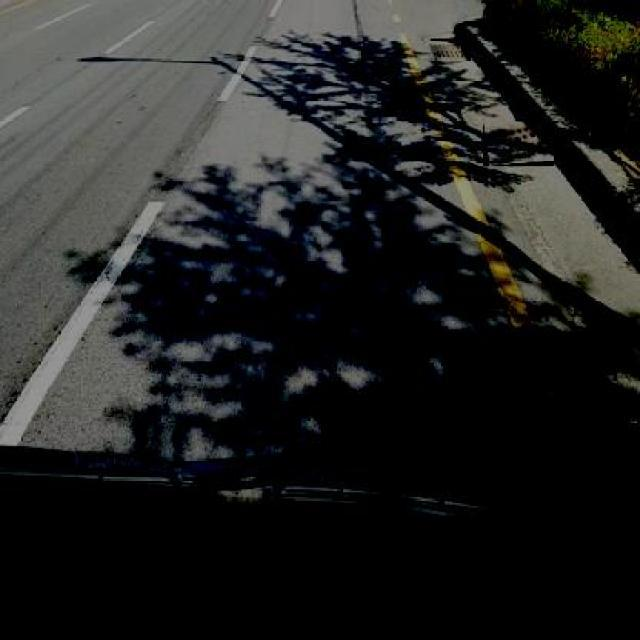Manhole: (489, 424, 640, 532), (482, 121, 555, 166), (428, 38, 470, 60)
